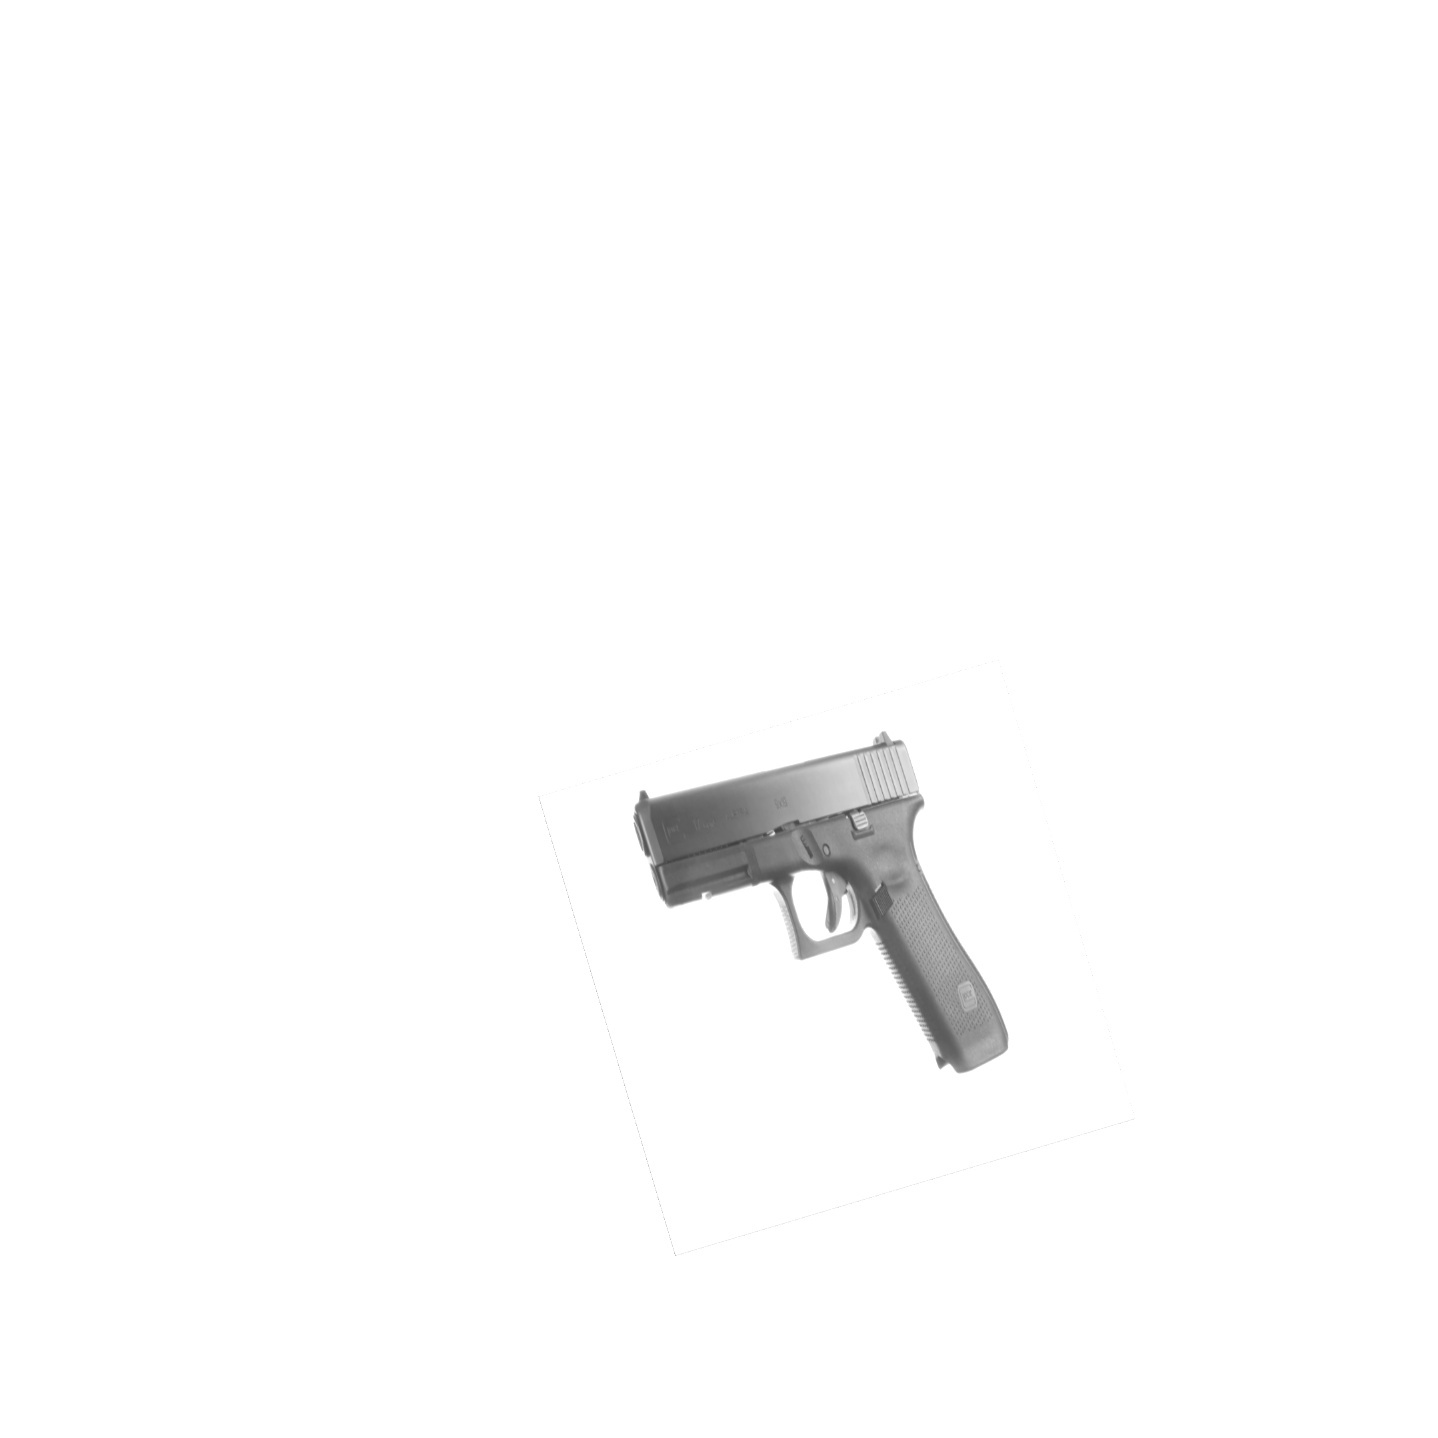gun: (633, 723, 1015, 1075)
